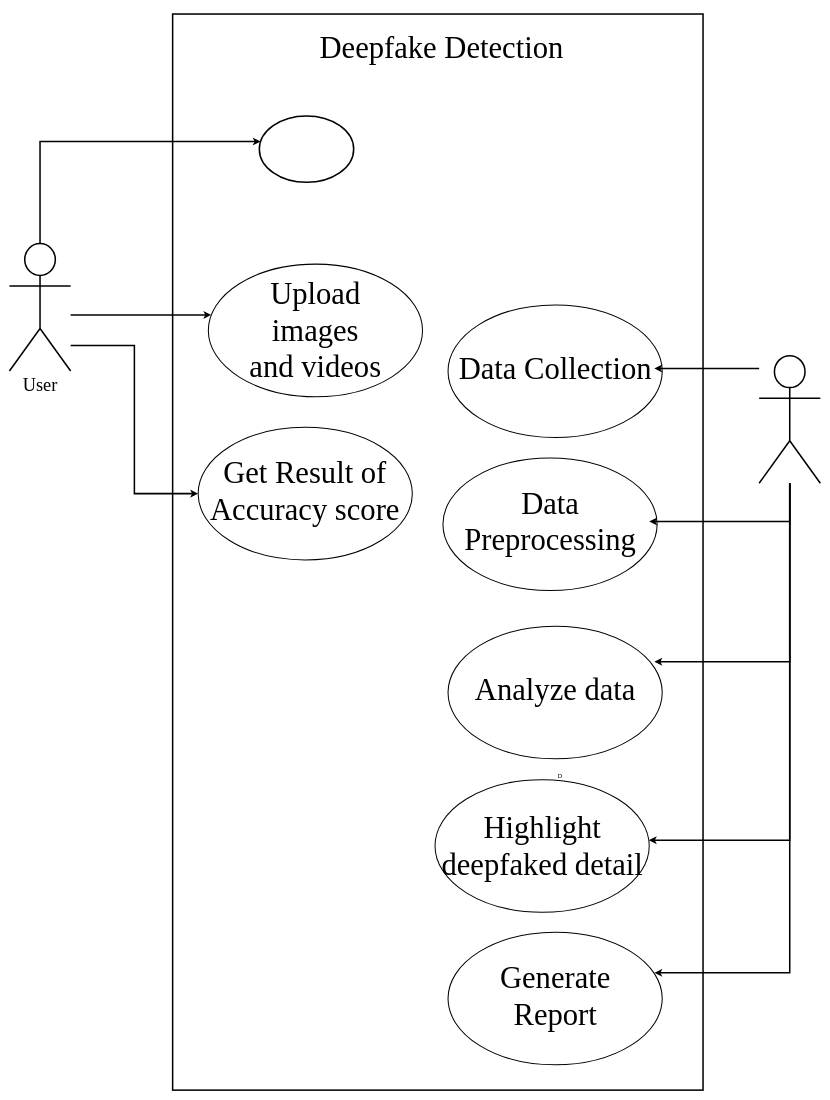
The diagram is 830 pixels wide and 1100 high, and some of its shapes have lost their labels. Each missing label, with the centre of its shape:
Login: the point at 306,149
System: the point at 789,419
